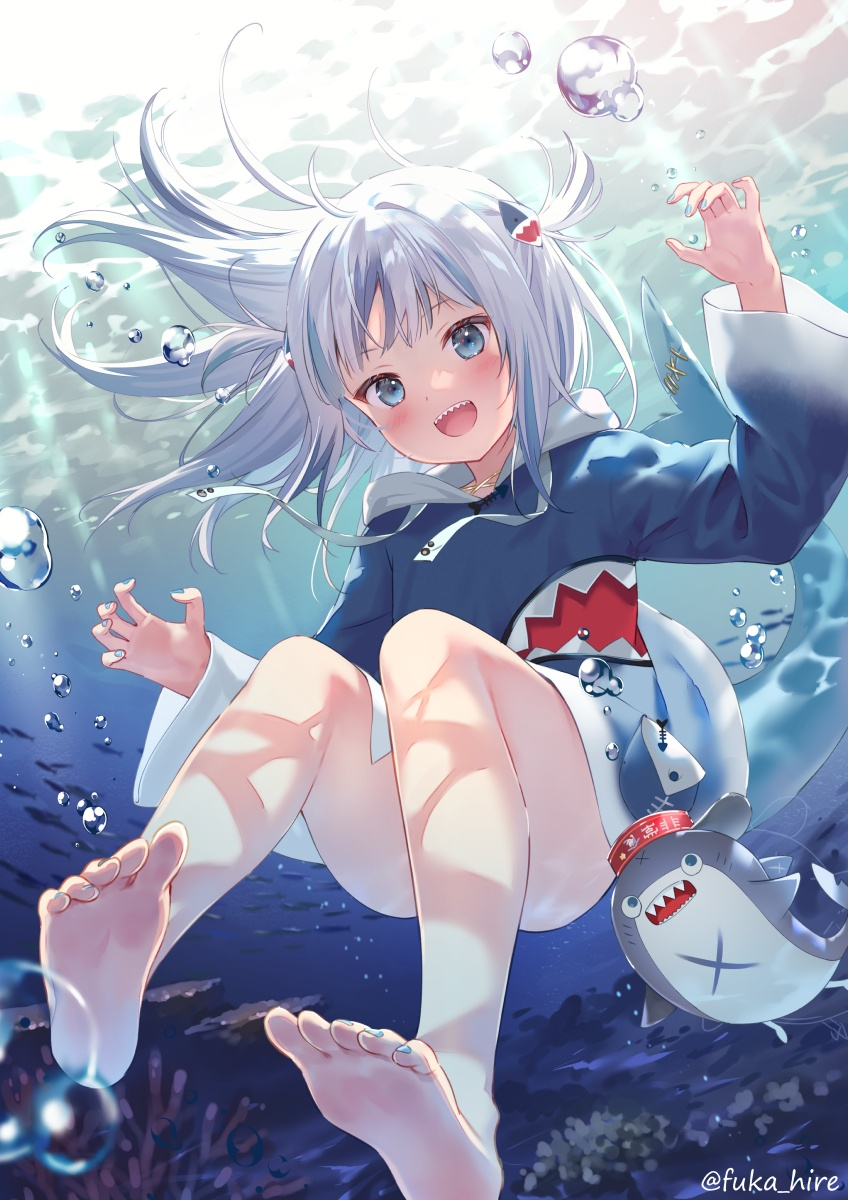纸片人正脸: (268, 174, 596, 480)
